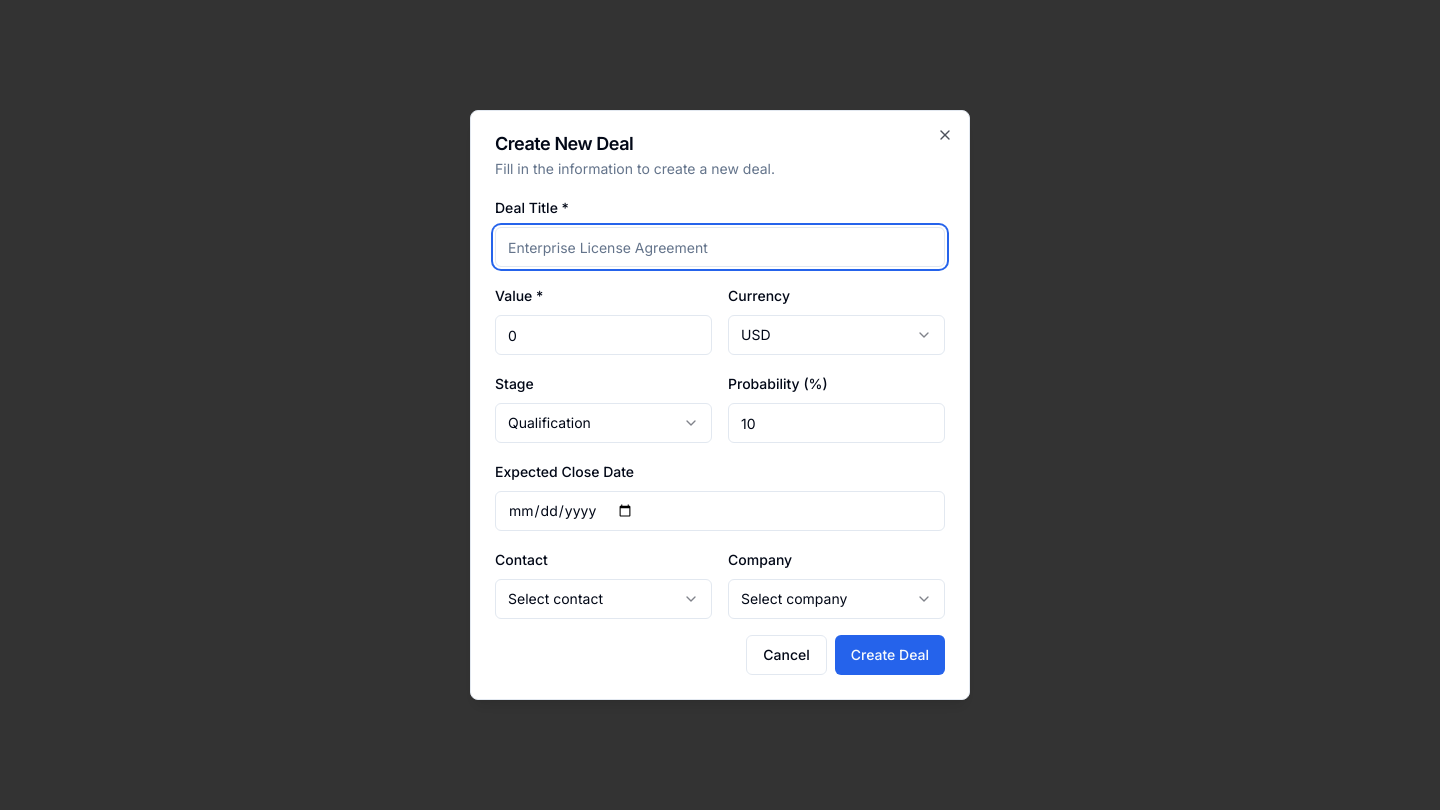
it: DealForm › Form Submission › should show loading state during submission
Type "Test Deal" into the field labelled "Deal Title *" at (720, 247), box [495,227,945,267]
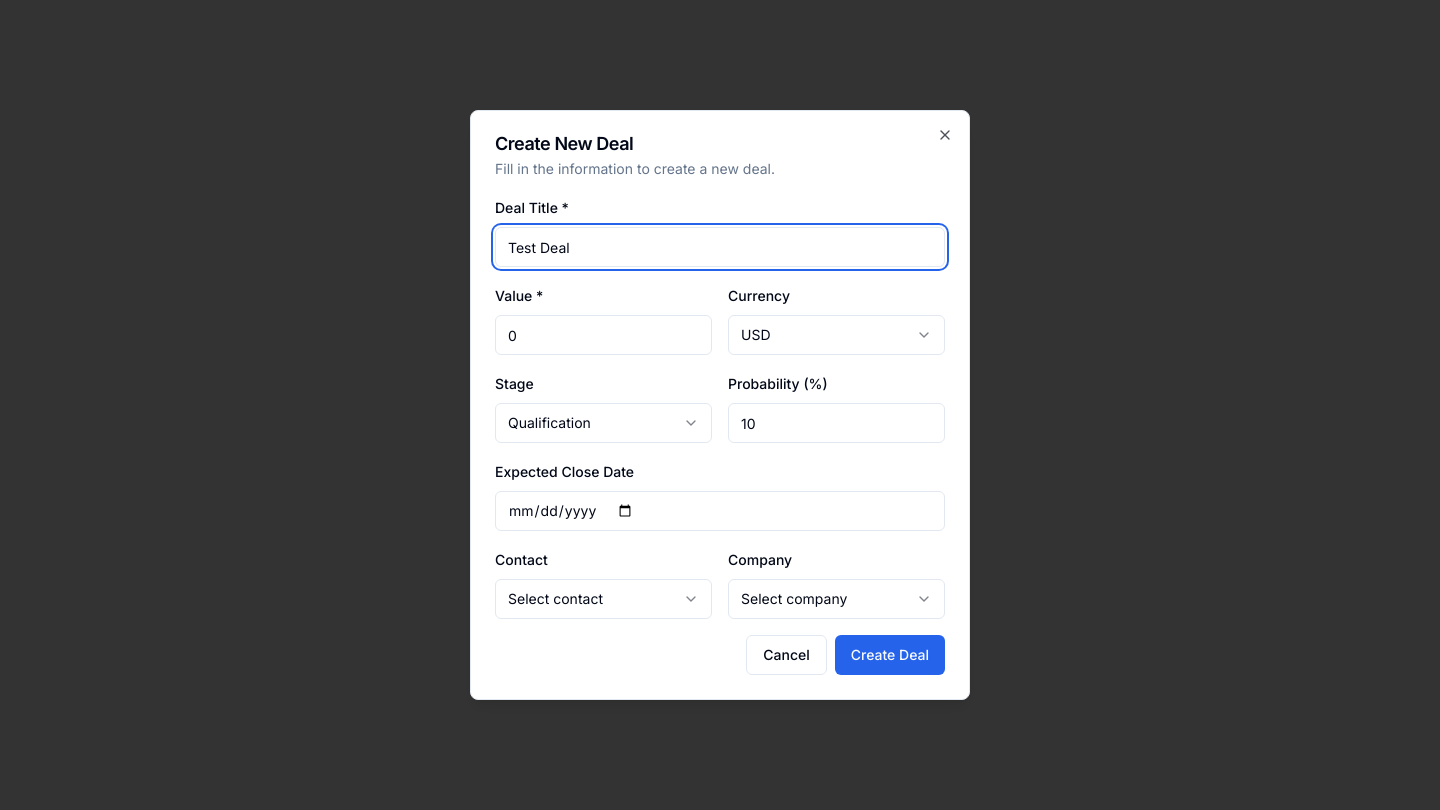
Click the button "Create Deal" at (890, 655), box [835,635,945,675]
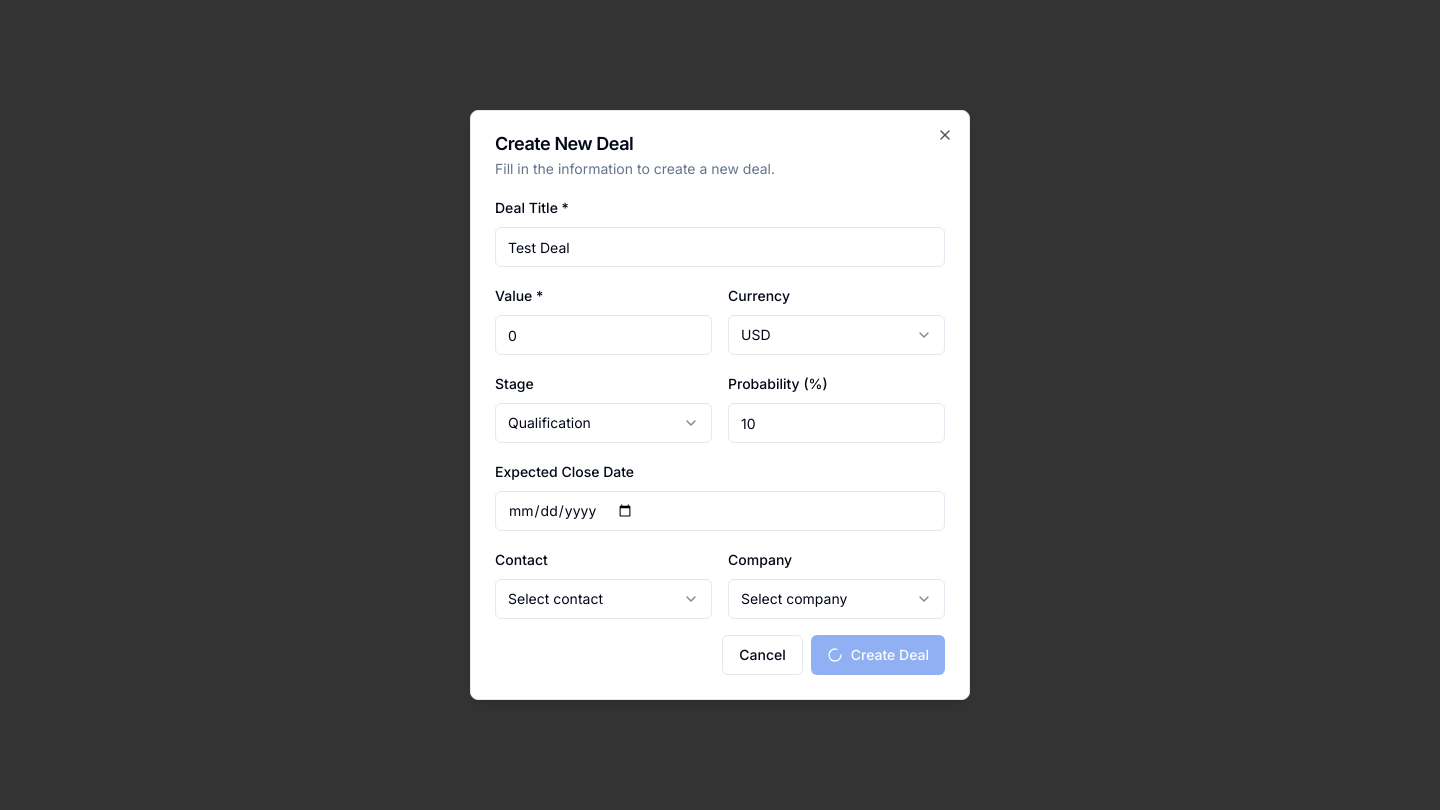
Expected: the button "Create Deal" is disabled, [811,635,945,675]
